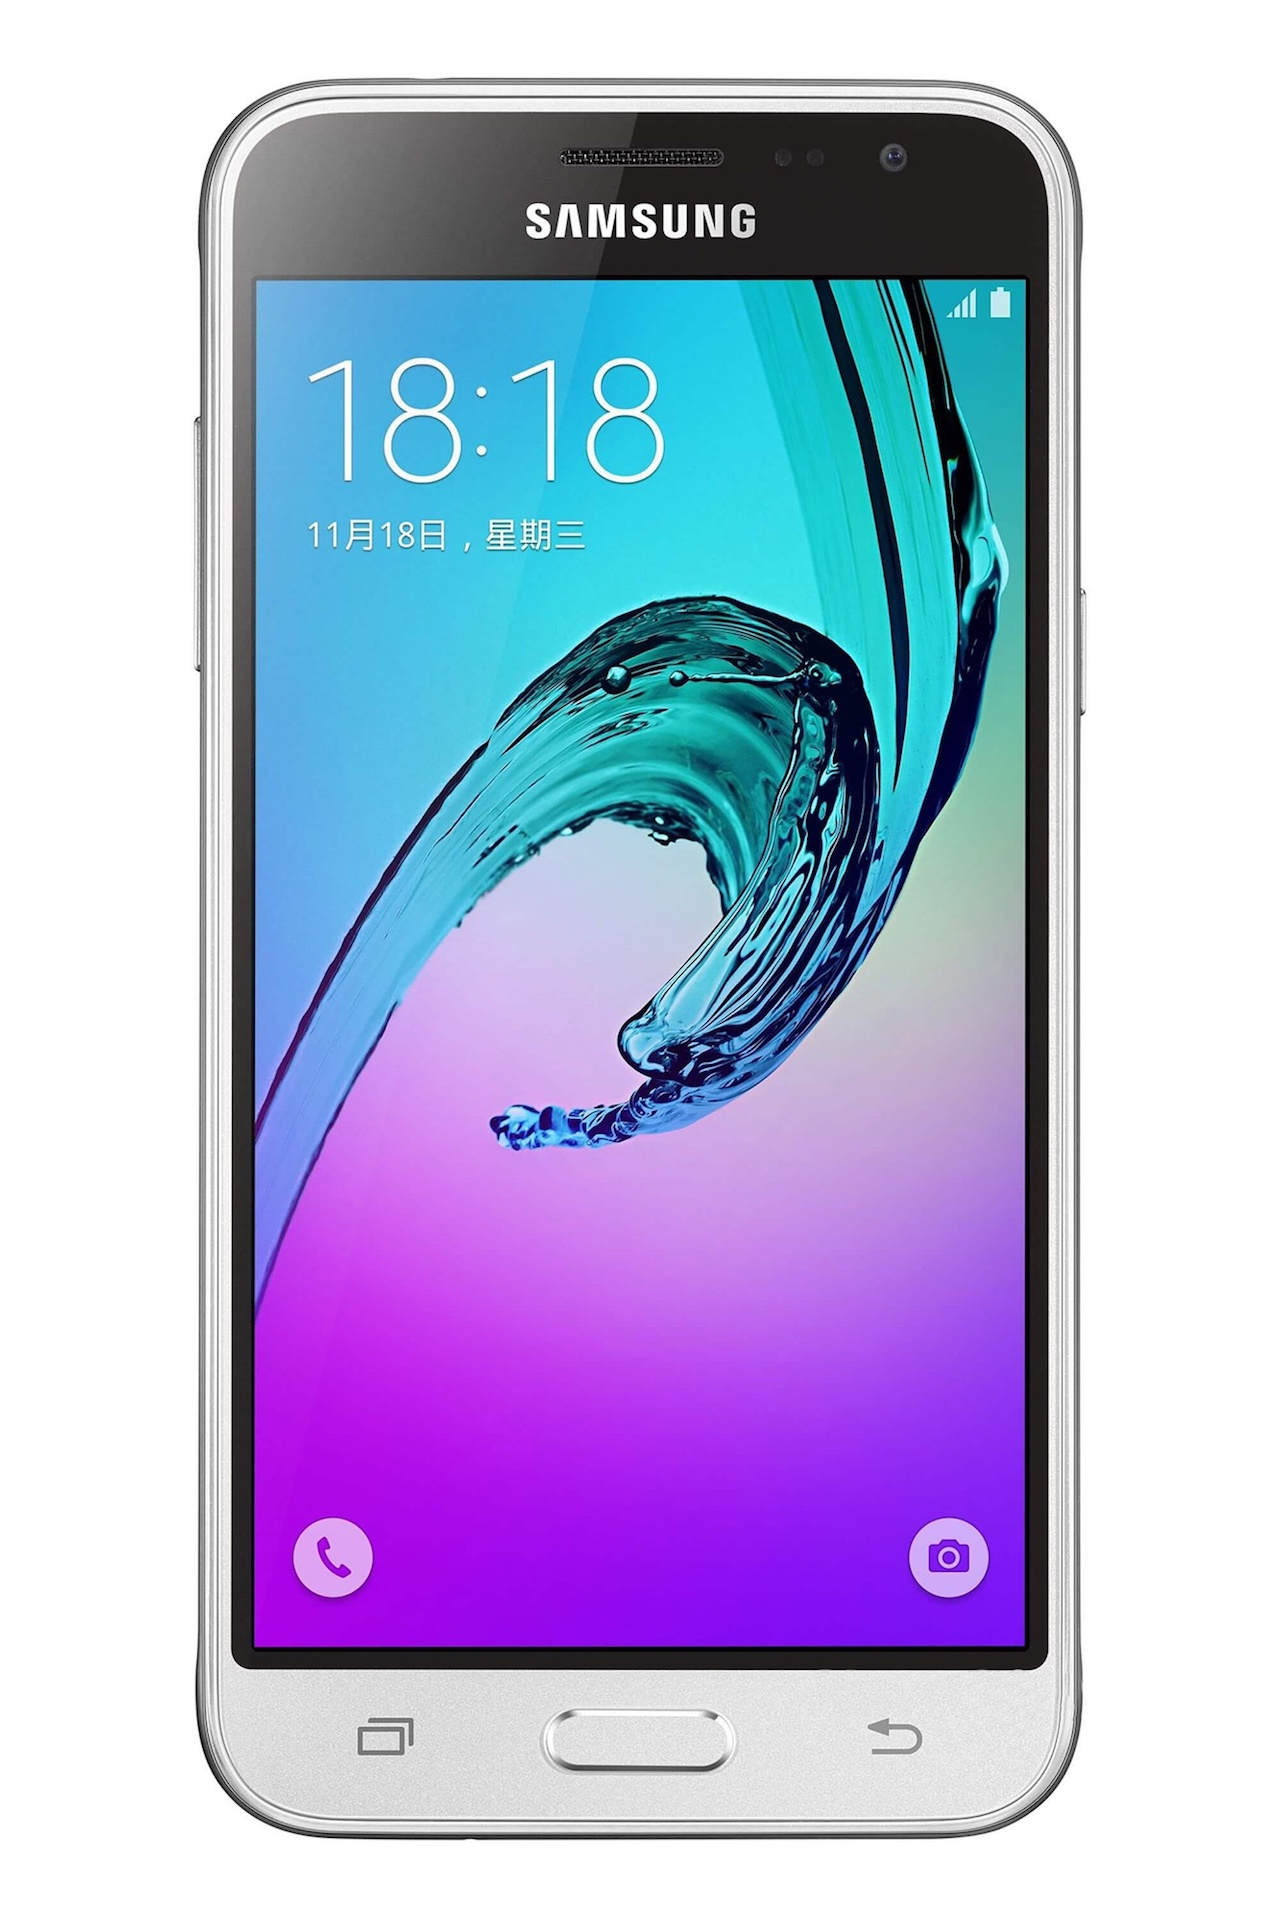smartphone: (193, 73, 1086, 1843)
